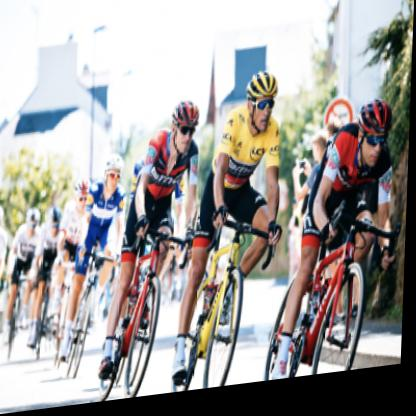With Helmet: (354, 102, 397, 179), (240, 67, 284, 142), (170, 98, 203, 169), (102, 152, 127, 198), (45, 202, 69, 243)
